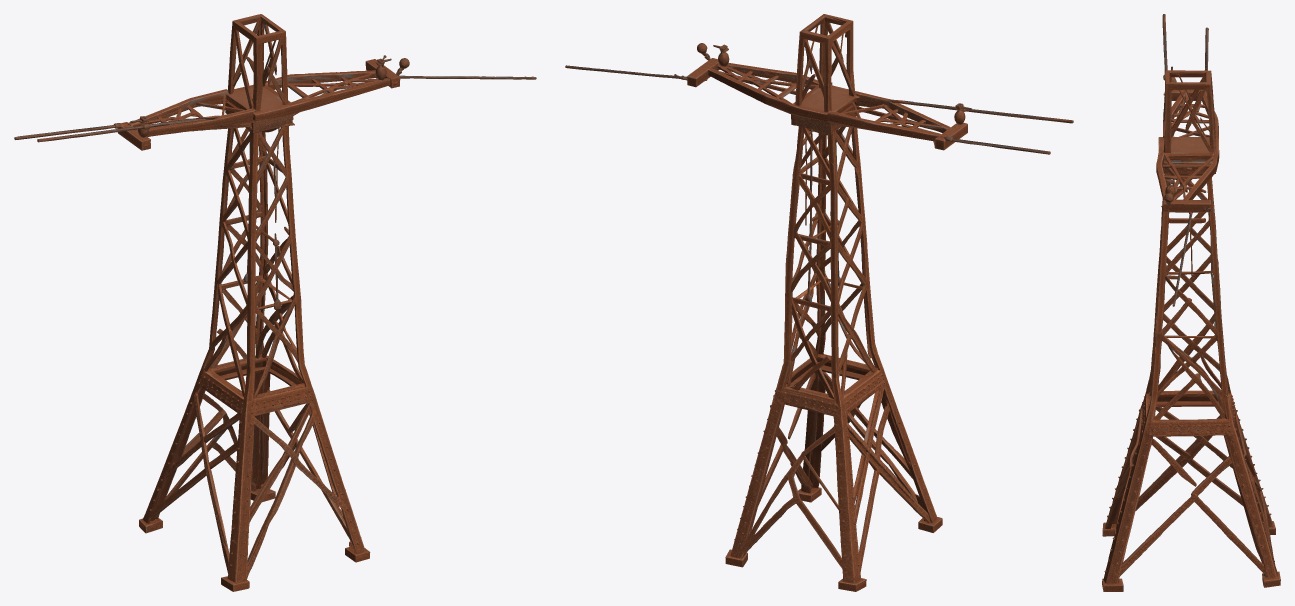
The model's file is ropeway_pylon.glb.
3 renders of one model, left to right at view 1: azimuth 30°, elevation 25°; view 2: azimuth 150°, elevation 25°; view 3: azimuth 270°, elevation 25°, orthographic. The views are drawn at different scales.
Size of the model in its own units: 1.9 by 1.86 by 0.6221.
Materials: 1 (1 with a texture image).
